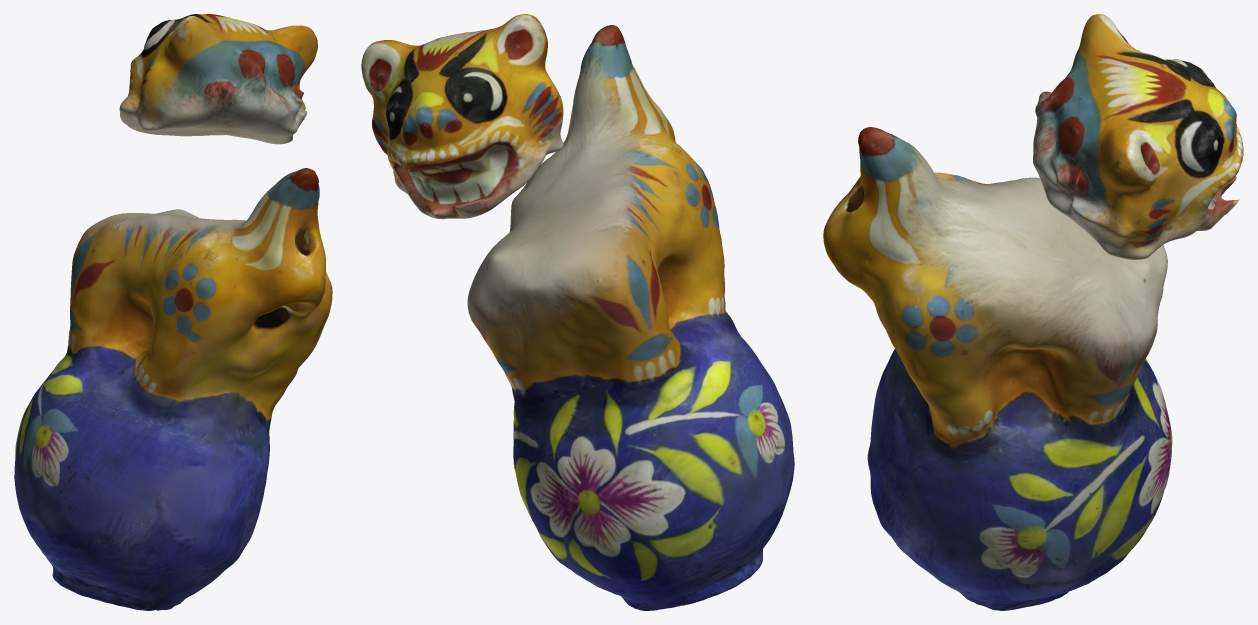
3 views of the same model, side by side, from view 1: azimuth 30°, elevation 25°; view 2: azimuth 150°, elevation 25°; view 3: azimuth 270°, elevation 25° (orthographic). The views are drawn at different scales.
Bounding box in the file's own units: 0.5067 × 0.7866 × 0.4738.
Materials: 1 (1 with a texture image).
